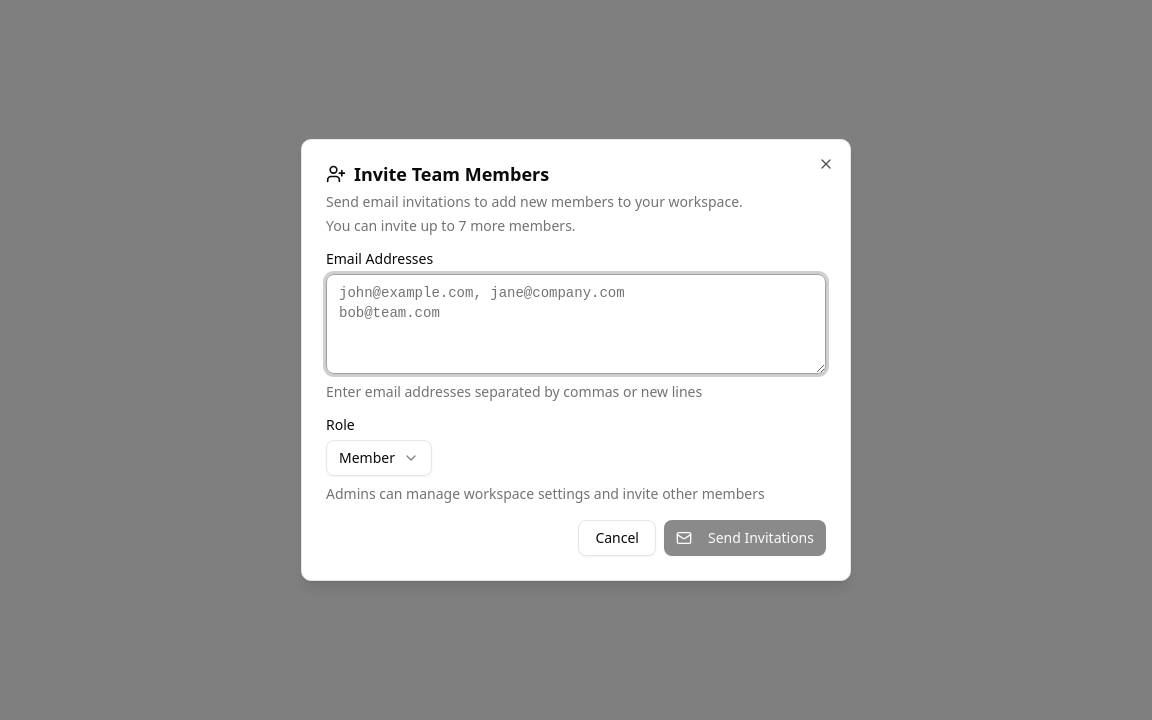
Test case: InviteMembersModal › enables send button with valid emails
This screenshot has width=1152, height=720.
Type "valid@email.com" into the text box with placeholder "john@example.com, jane@company.com bob@team.com". click: (576, 324)
box: [326,274,826,374]
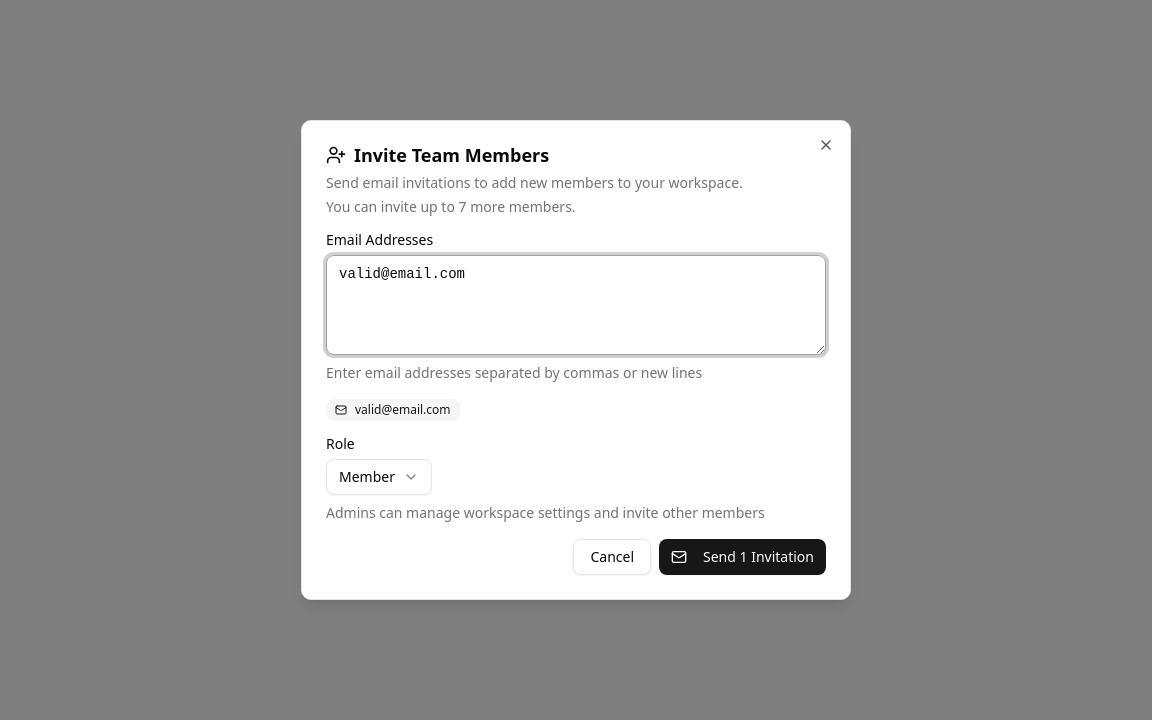
Expected: the button "Send 1 Invitation" is enabled, [659,539,826,575]
